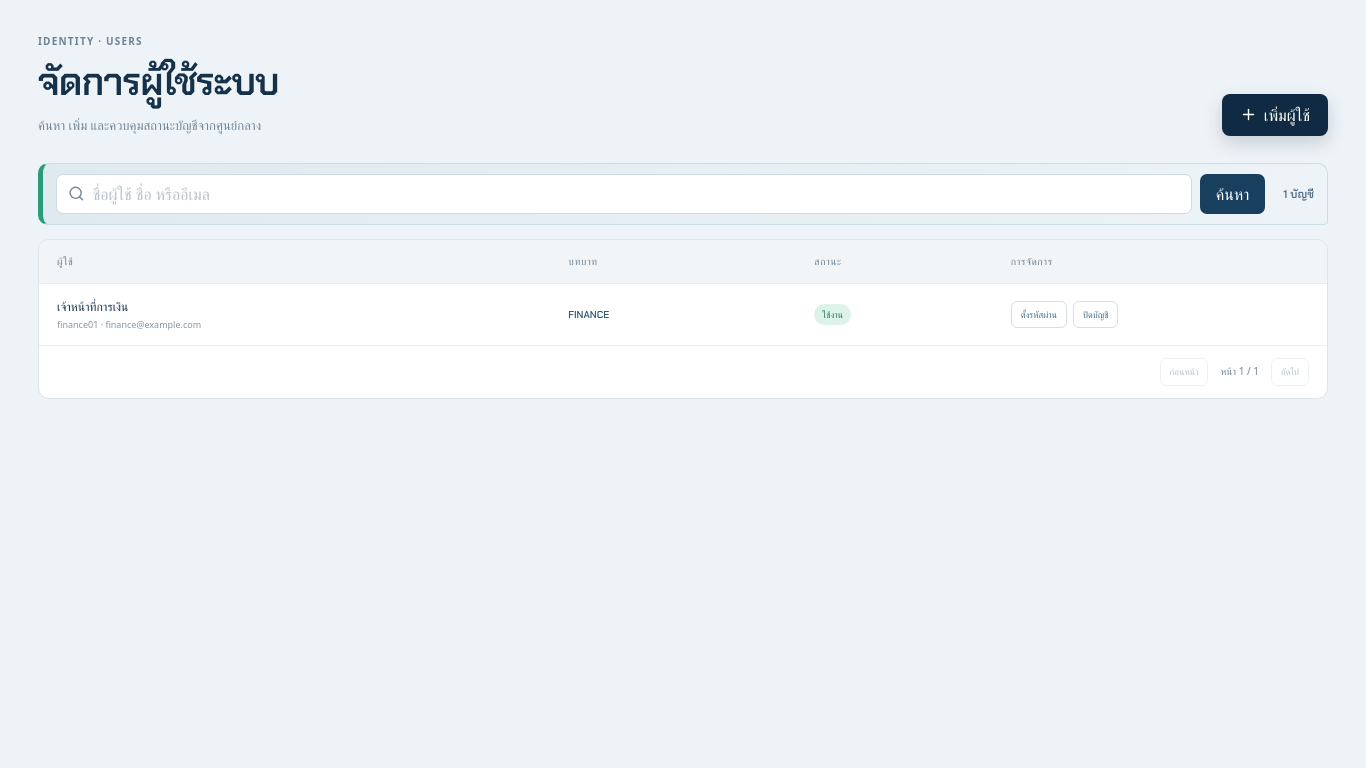
users page › creates a user through a csrf-backed request
Expected: the text "เจ้าหน้าที่การเงิน" is shown, [57,298,128,314]
Click the button "เพิ่มผู้ใช้" at (1275, 114), box [1222,94,1328,136]
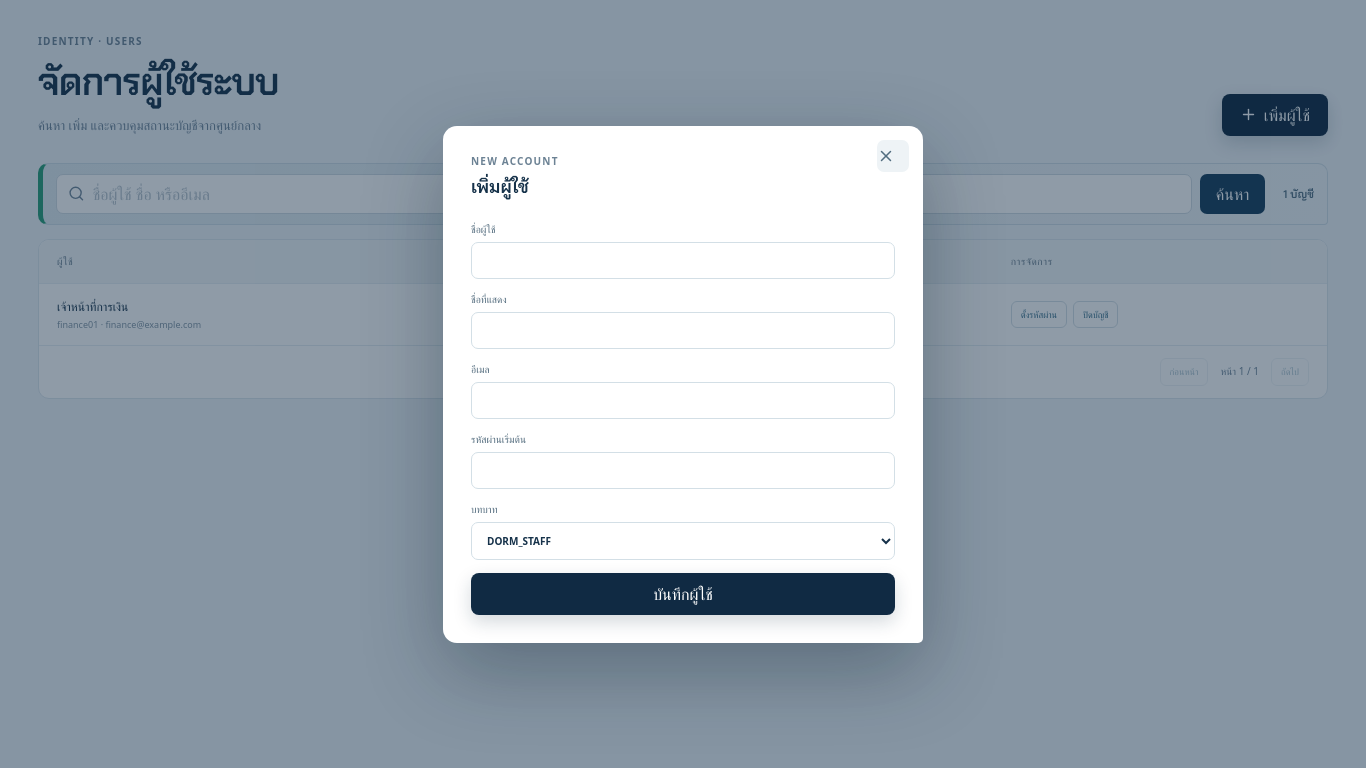
Type "staff02" into the field labelled "ชื่อผู้ใช้" at (683, 260), box [471,242,895,278]
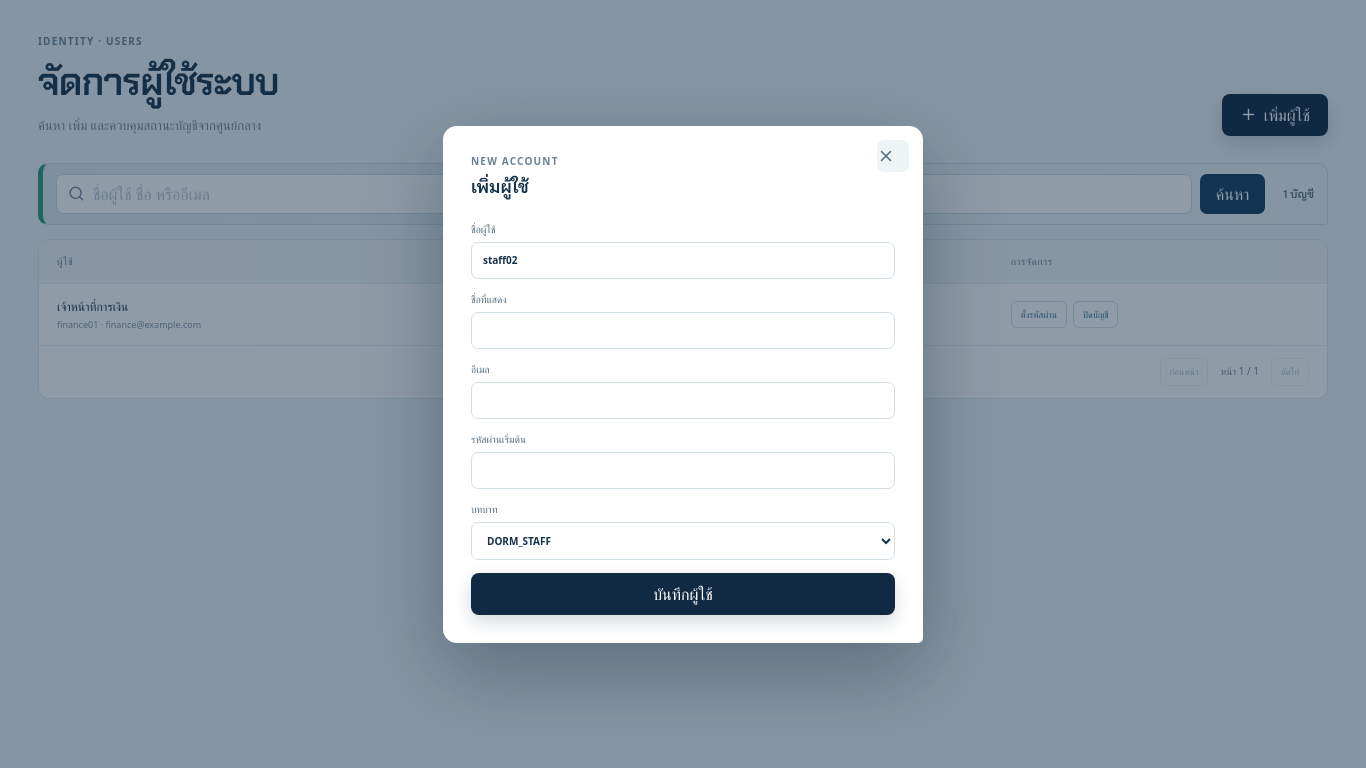
Type "เจ้าหน้าที่หอพัก" into the field labelled "ชื่อที่แสดง" at (683, 330), box [471,312,895,348]
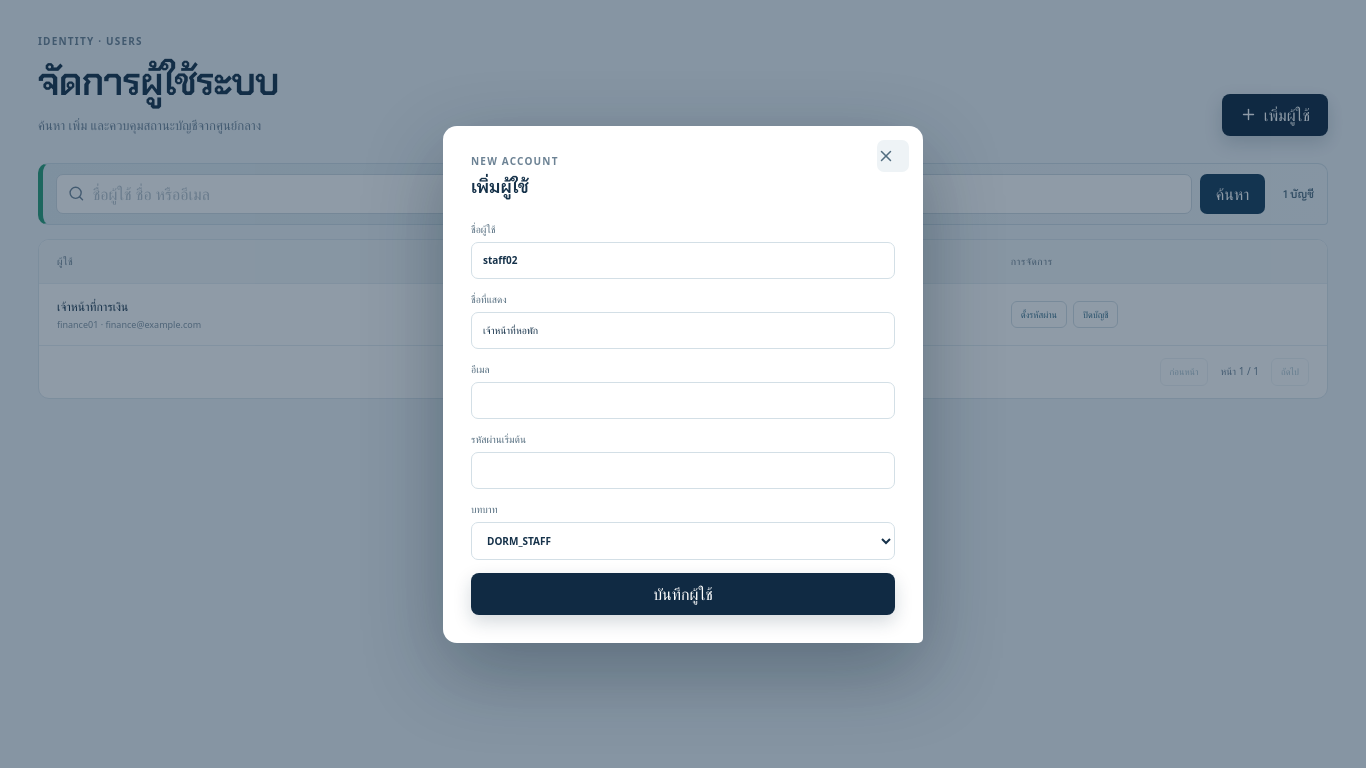
Type "Staff@1234" into the password field labelled "รหัสผ่านเริ่มต้น" at (683, 470), box [471,452,895,488]
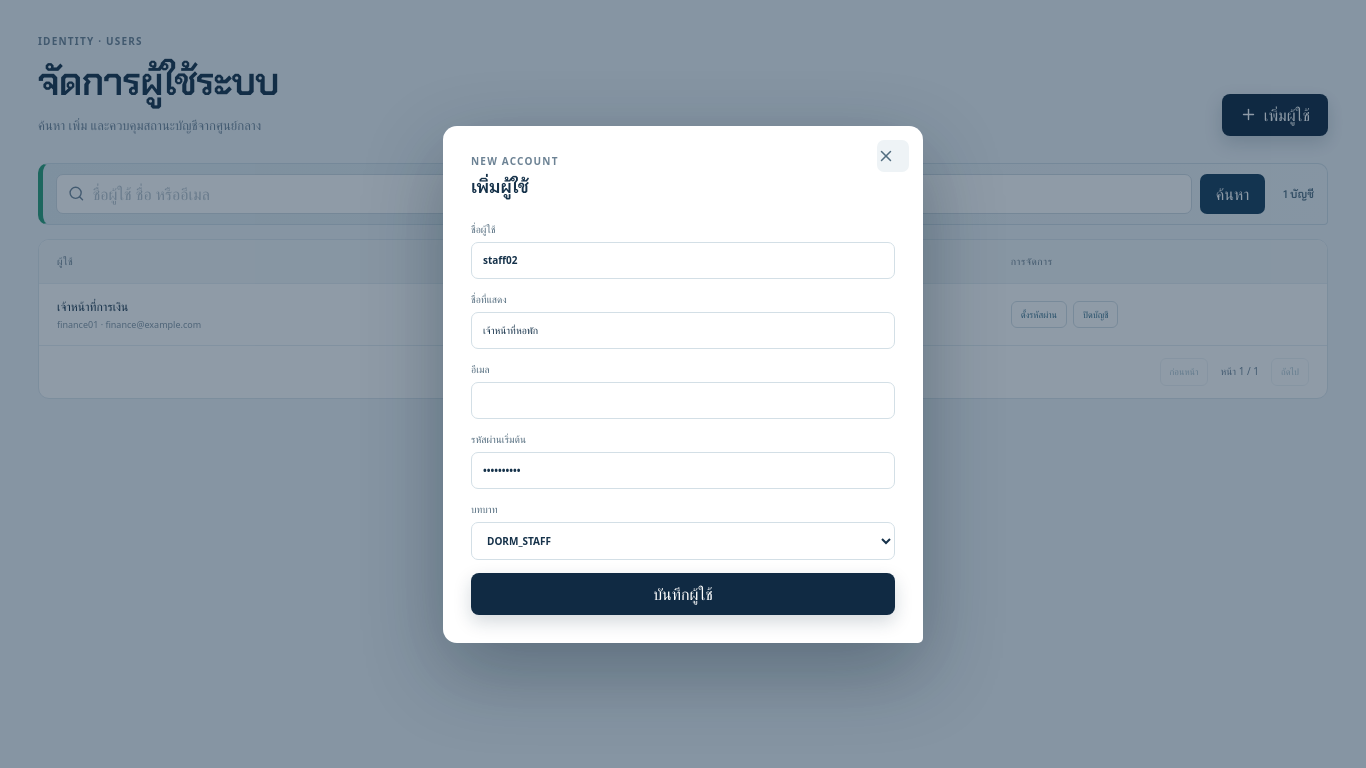
Select "DORM_STAFF" in the dropdown labelled "บทบาท" at (683, 540), box [471,522,895,560]
Click the button "บันทึกผู้ใช้" at (683, 594), box [471,572,895,614]
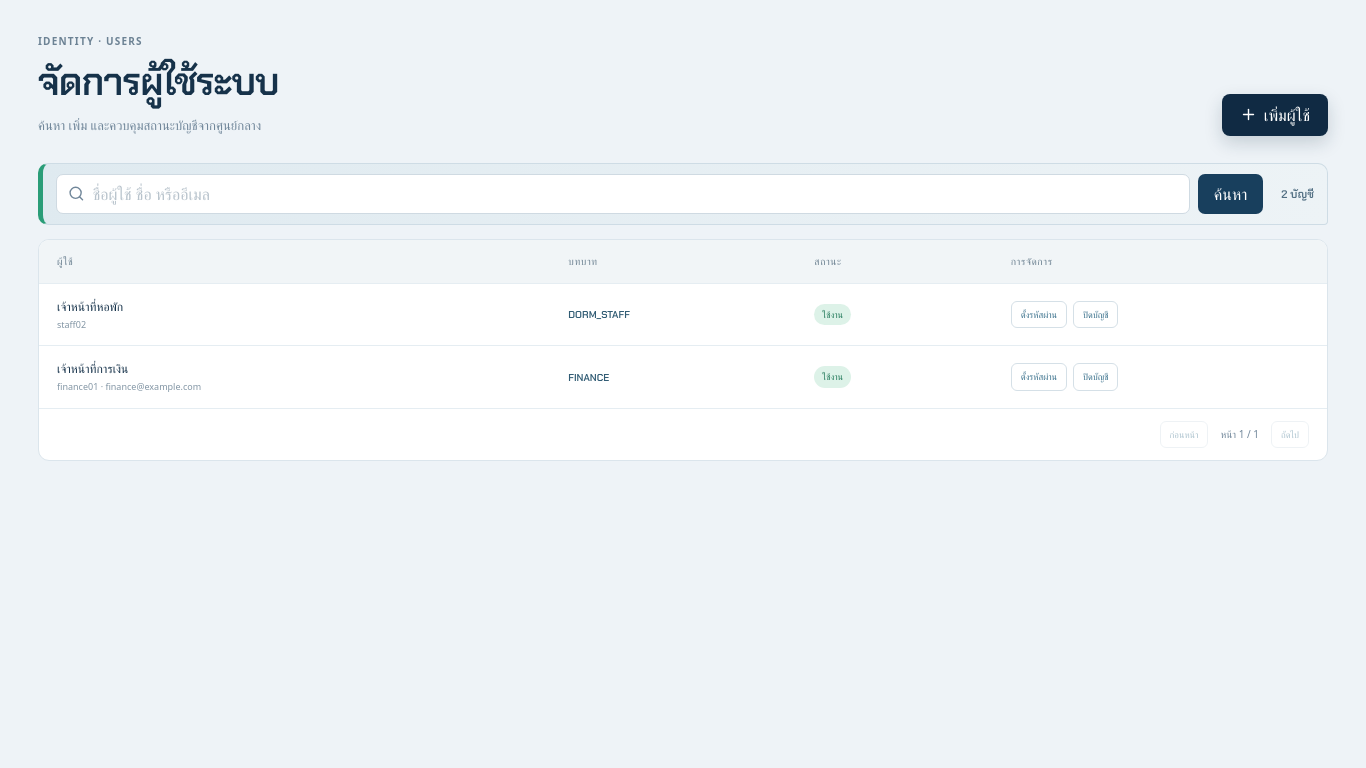
Result: the text "staff02" is shown at [57,318,86,330]
